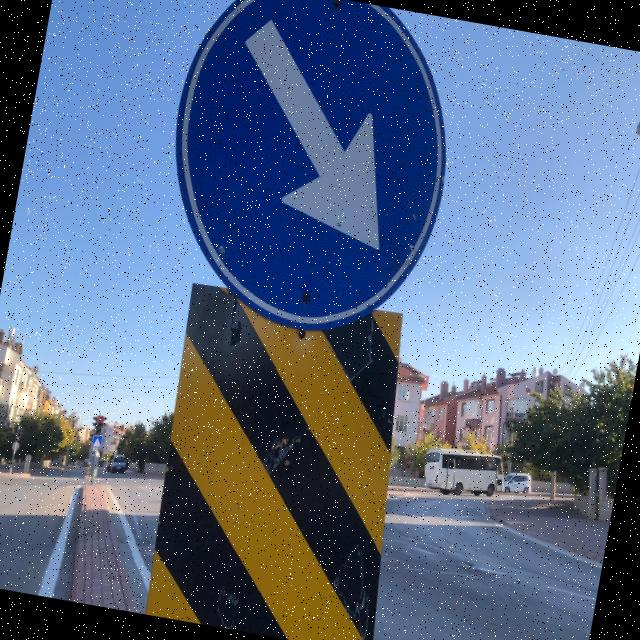compulsory_keep_right: (136, 0, 484, 355)
